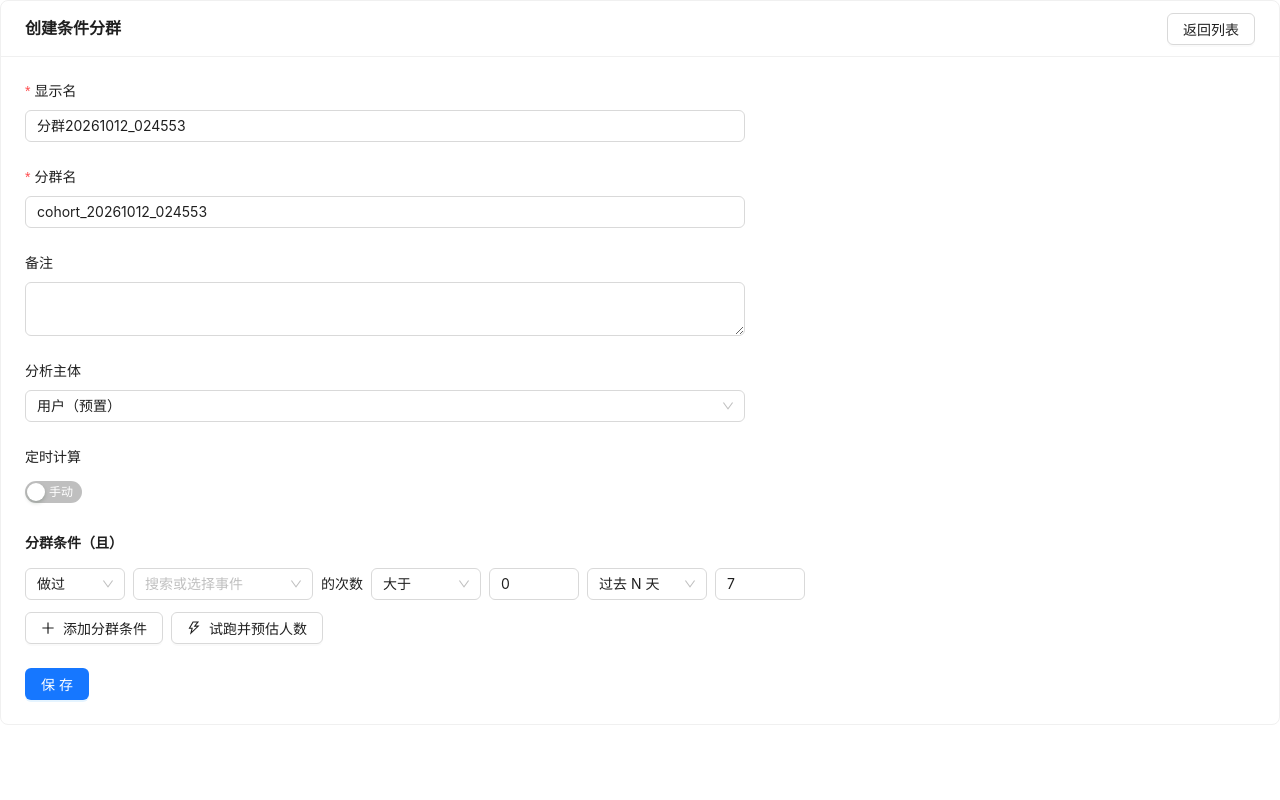
条件分群试跑 › 条件不完整时拦下试跑，并在对应行内联提示（不弹后端下标式报错）
The image size is (1280, 800).
Click the button "试跑并预估人数": point(247, 628) [171, 612, 323, 644]
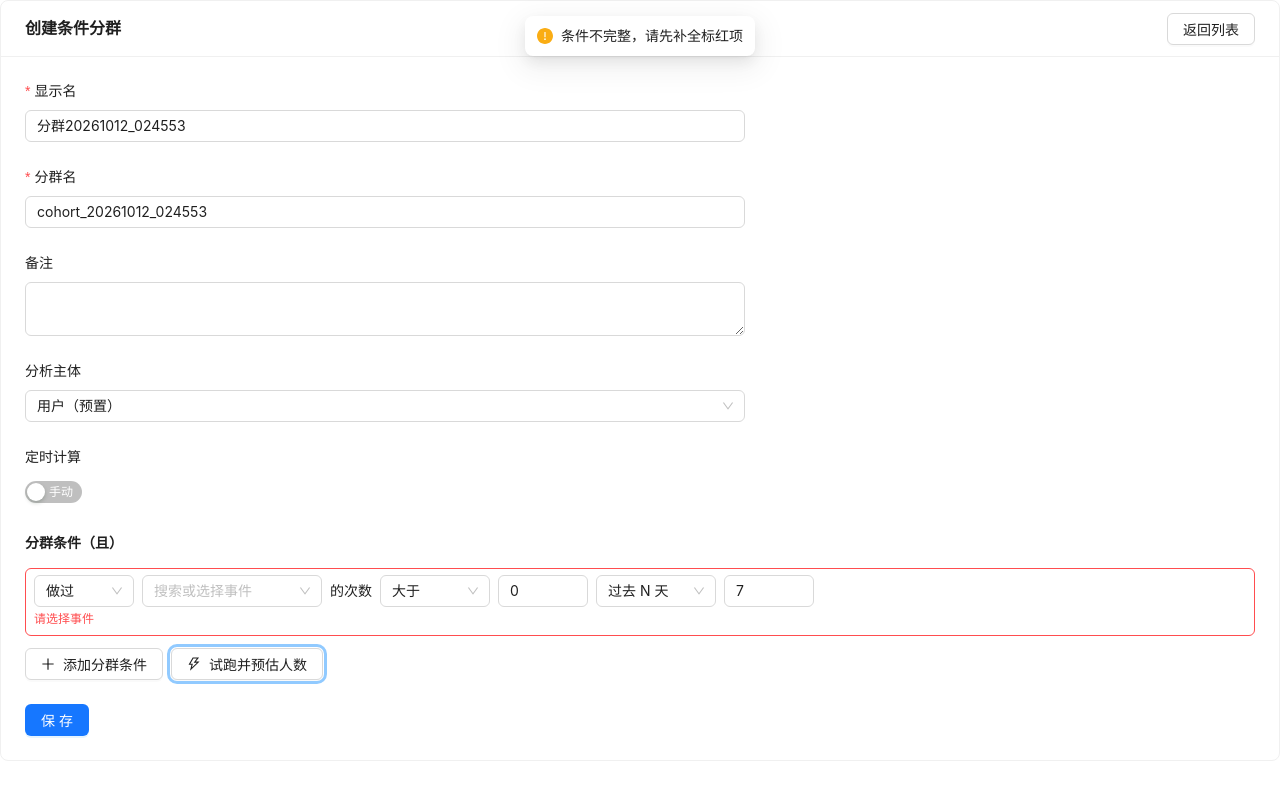
Expected: the text "请选择事件" is shown, [34, 611, 94, 626]
